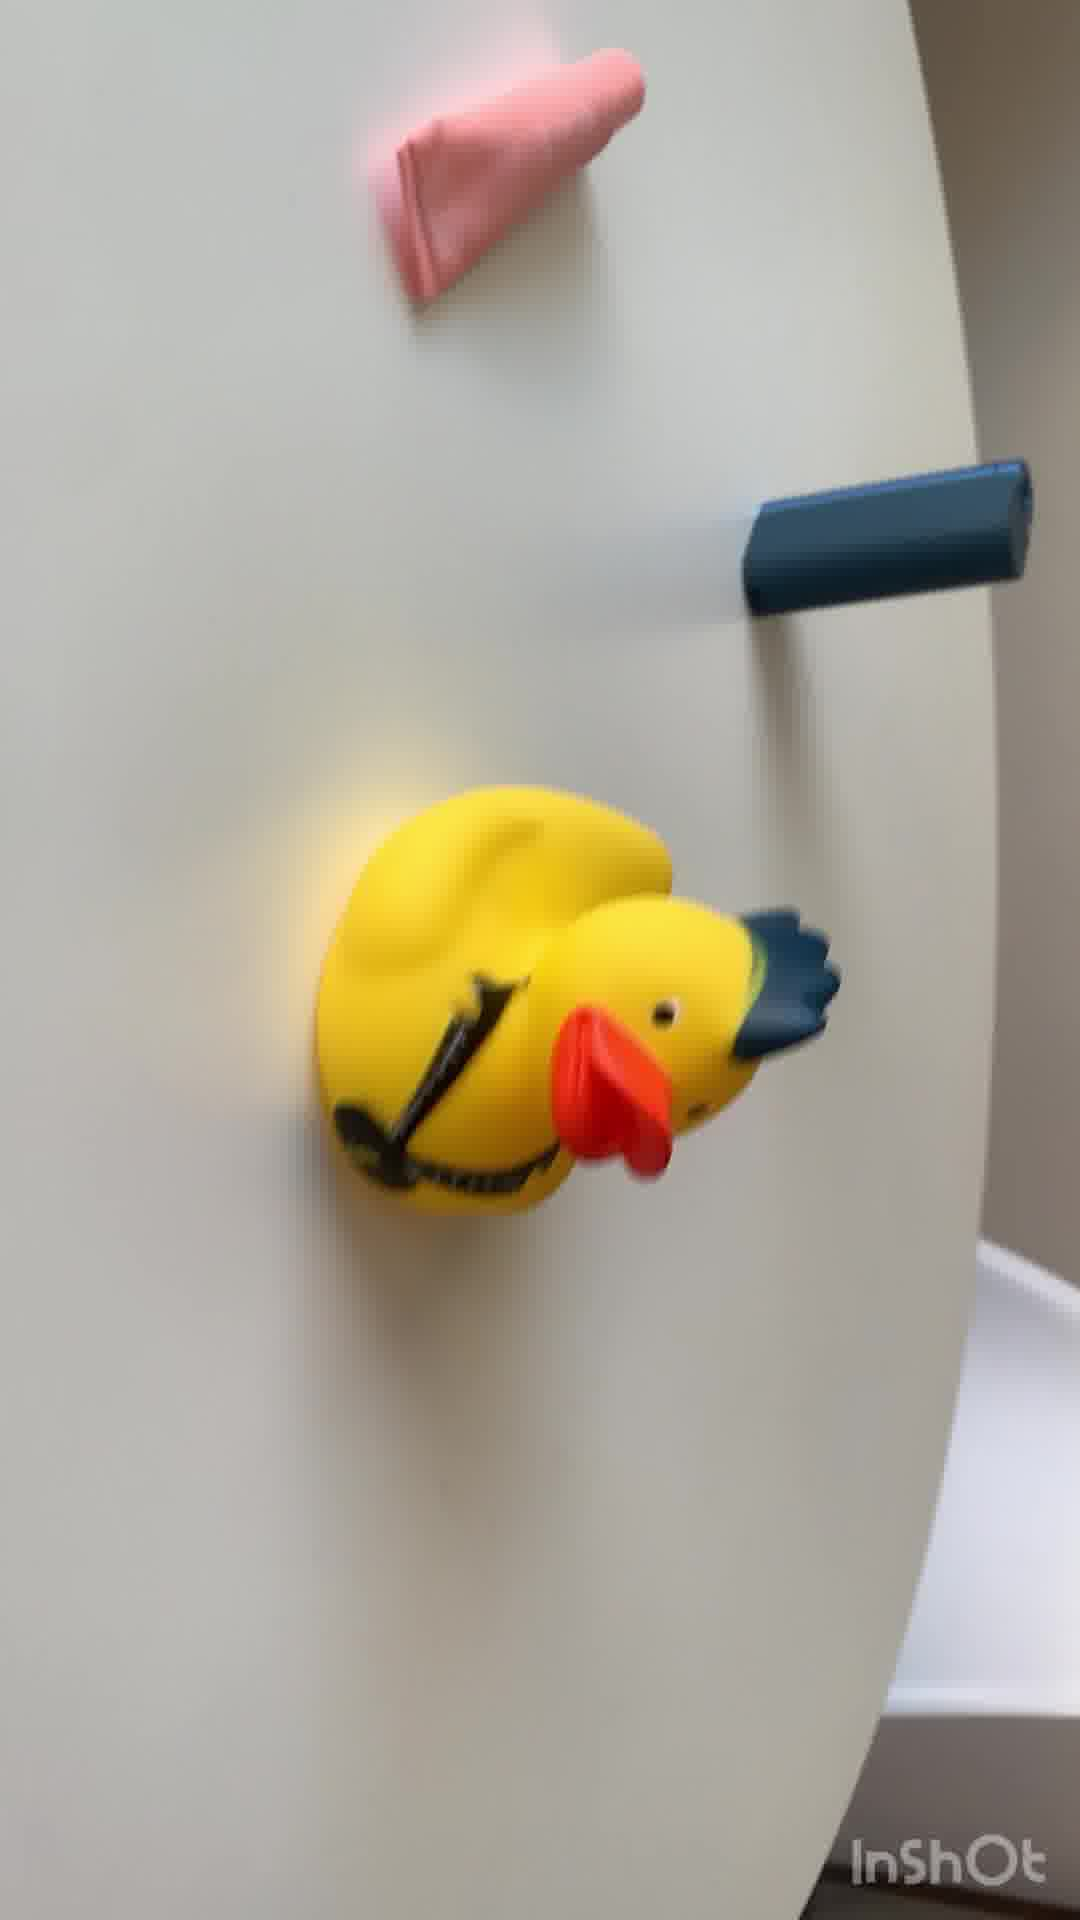duck: (318, 793, 839, 1221)
glo: (733, 462, 1033, 632)
lip balm: (392, 34, 644, 313)
